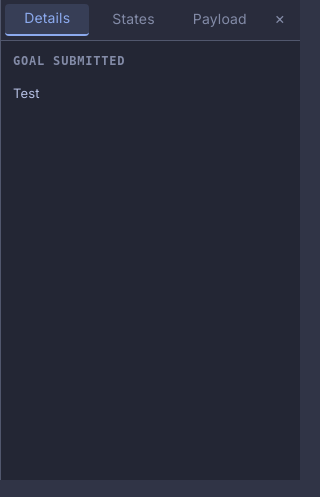
InspectorSidebar › shows JSON payload for active step
Click the button with test id "inspector-tab-payload": click(220, 20) [178,4,262,36]
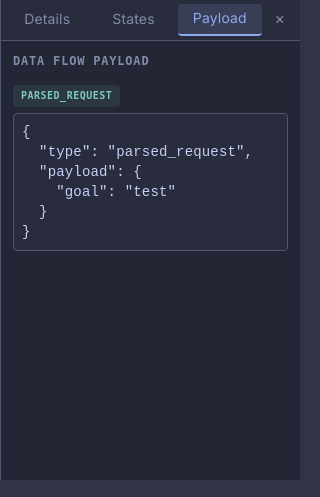
Expected: the element with test id "json-payload-viewer" is shown, [13,85,288,251]
